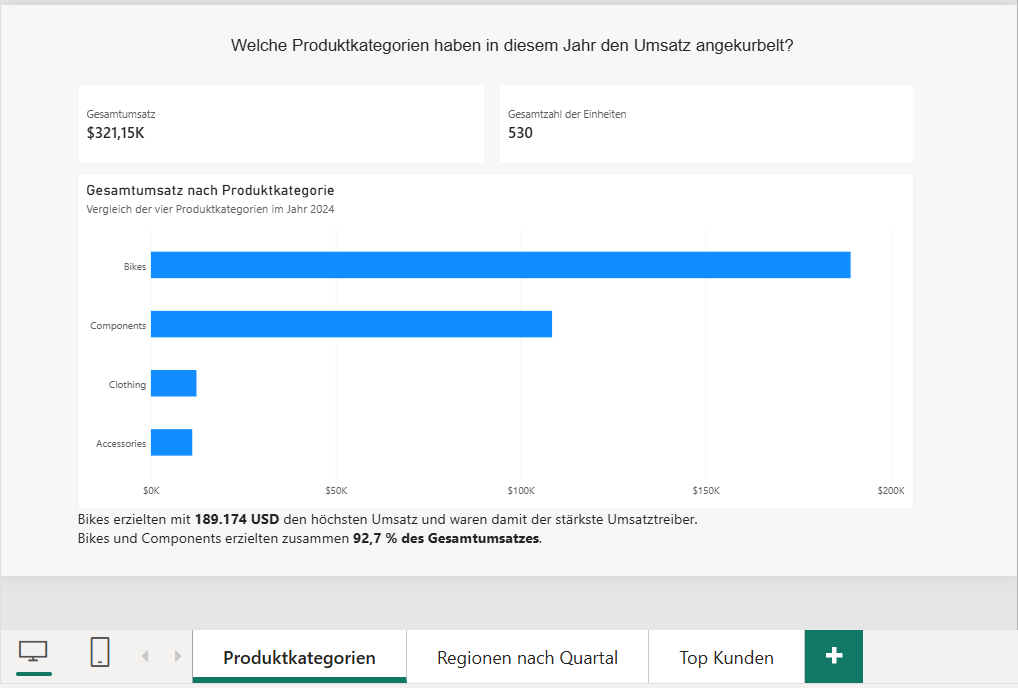

The page's visual inventory and layout, read from the dashboard file:
{"tool":"powerbi","page":{"name":"Produktkategorien","canvas":[1920,1080],"ordinal":0},"visuals":[{"type":"textbox","box":[10,57.5,1910,75],"z":0},{"type":"cardVisual","fields":{"Data":["FactOrders.Gesamtumsatz"]},"box":[145,150,770,150],"z":1000},{"type":"cardVisual","fields":{"Data":["FactOrders.Gesamtzahl der Einheiten"]},"box":[940,150,785,150],"z":2000},{"type":"barChart","title":"Gesamtumsatz nach Produktkategorie","fields":{"Category":["FactOrders.ProductCategory"],"Y":["FactOrders.Gesamtumsatz"]},"box":[145,317.5,1580,635],"z":3000},{"type":"textbox","box":[145,952.5,1580,80],"z":4000}]}

Visuals, with their boxes on the page's 1920x1080 design canvas (x1, y1, x2, y2). These are canvas units, not pixel positions in the 1018x688 screenshot, which may show the page scaled, cropped or inside an application window:
textbox: bbox=[10, 58, 1920, 132]
cardVisual - FactOrders.Gesamtumsatz: bbox=[145, 150, 915, 300]
cardVisual - FactOrders.Gesamtzahl der Einheiten: bbox=[940, 150, 1725, 300]
"Gesamtumsatz nach Produktkategorie" barChart: bbox=[145, 318, 1725, 952]
textbox: bbox=[145, 952, 1725, 1032]
